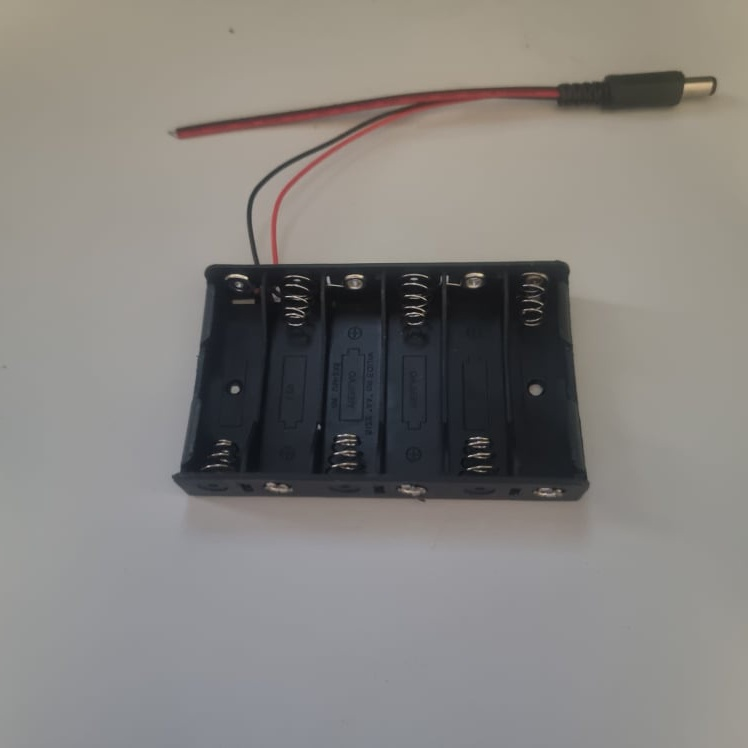BATTERY BOX: (170, 259, 587, 505)
